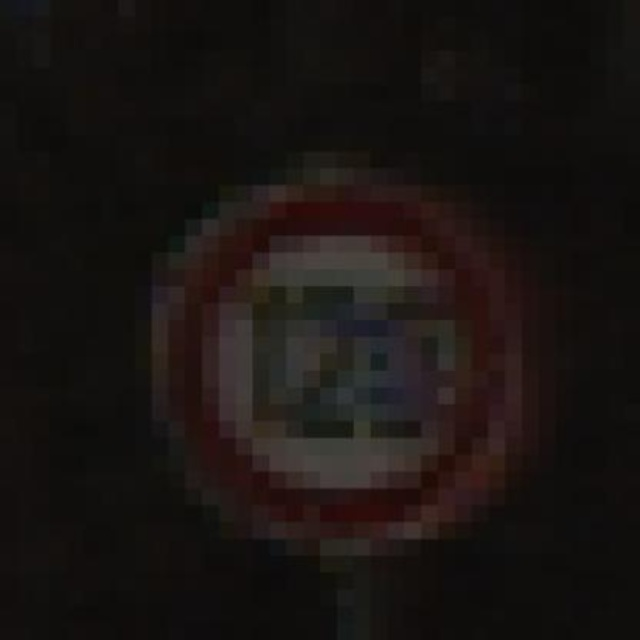Tốc độ tối đa cho phép 120km/h: (182, 179, 505, 544)
